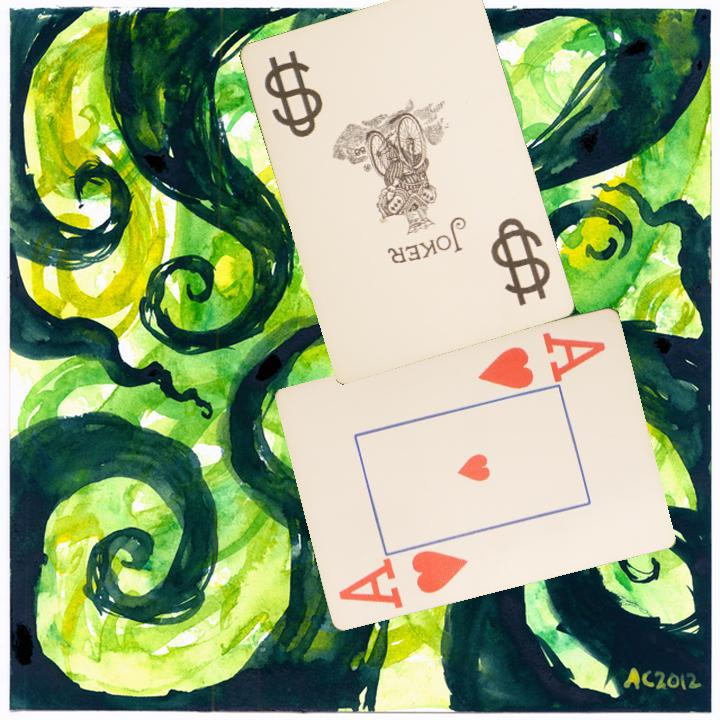Ah: (334, 547, 471, 612), (474, 329, 608, 393)
JK: (261, 47, 321, 141), (500, 220, 549, 293)
